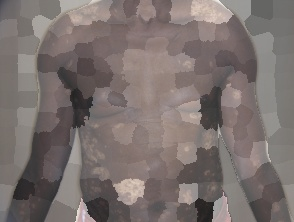vitiligo: (65, 99, 152, 222), (160, 107, 248, 222), (185, 0, 238, 31), (62, 0, 105, 32)
